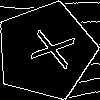X: (20, 25, 75, 70)
